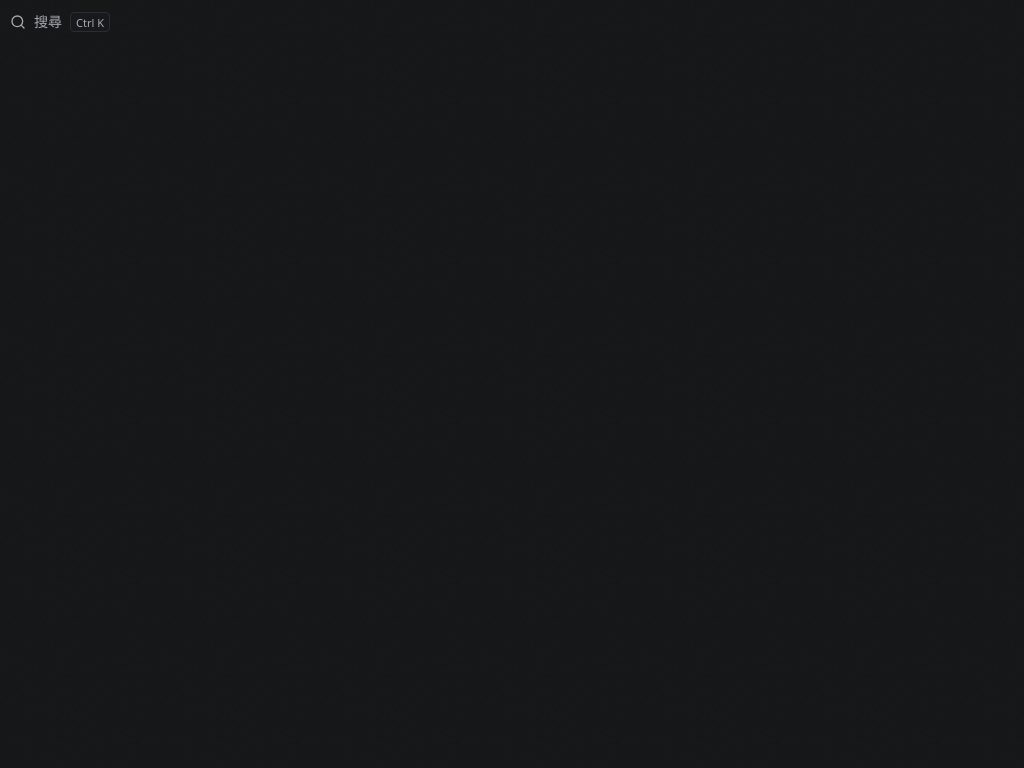
Test: CommandPalette › shows the empty state rather than an empty list when nothing matches
Type keys "{Control>}k{/Control}"
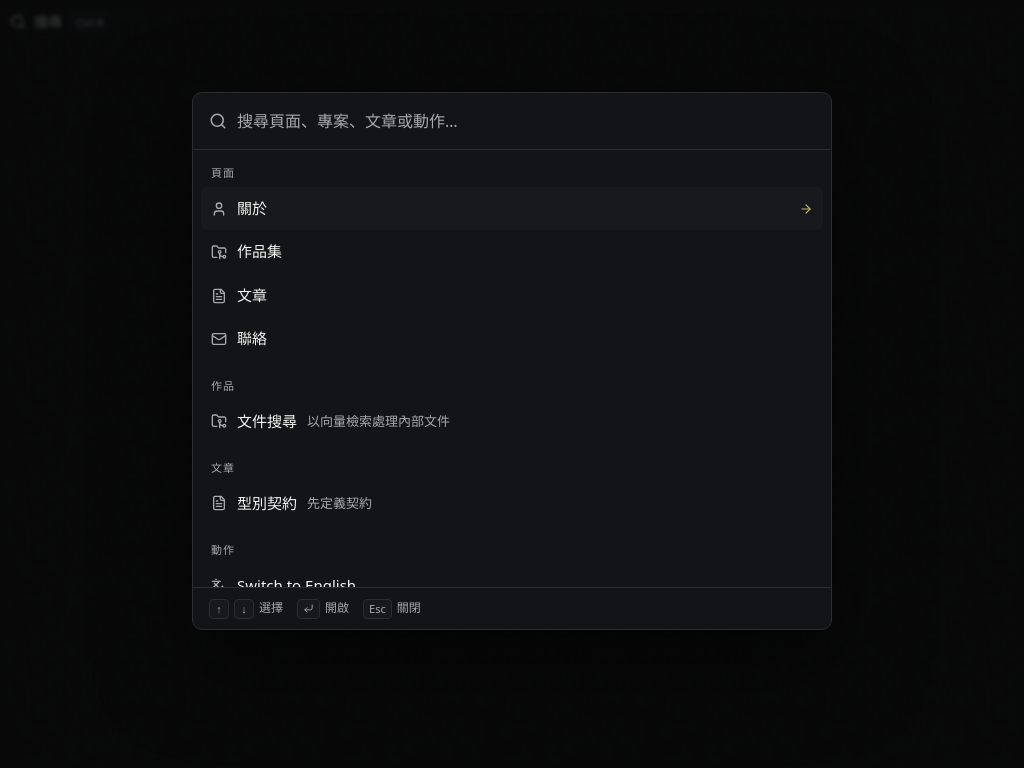
Type "zzzzzz" into the dropdown.
click(526, 121); type("zzzzzz")  # box x1=237 y1=107 x2=815 y2=135
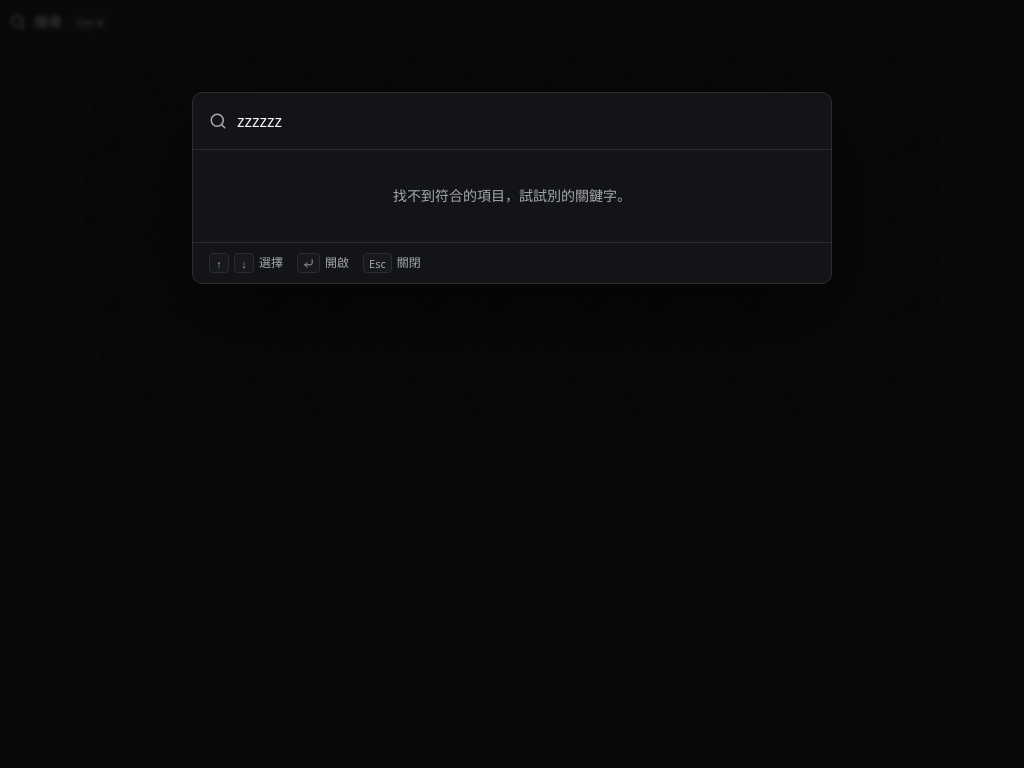
Now no options are shown
Now the text "找不到符合的項目，試試別的關鍵字。" is shown 2 times
